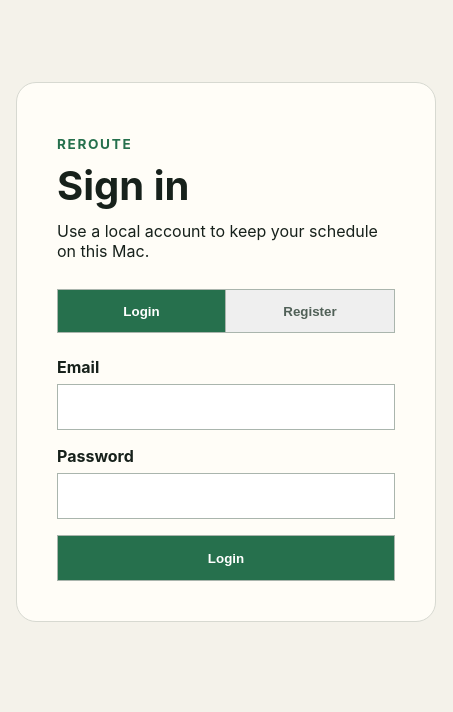
Test: shows when an email is already registered
Click the button with aria-label "Show registration form": (310, 311) [226,289,395,333]
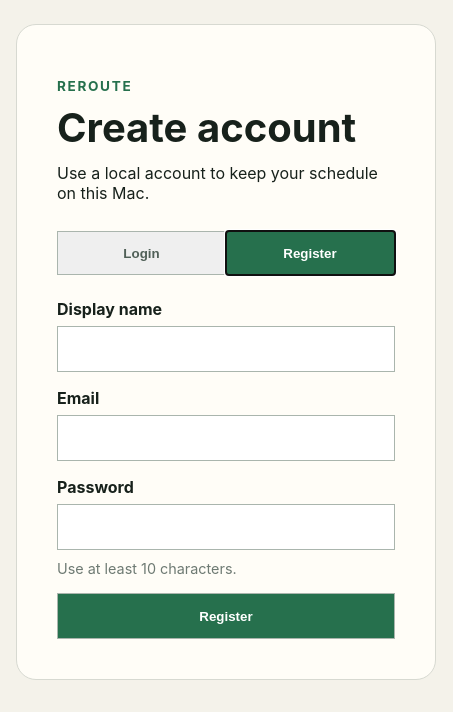
In the field labelled "Display name": (226, 349) [57,326,395,372], type "Adam"
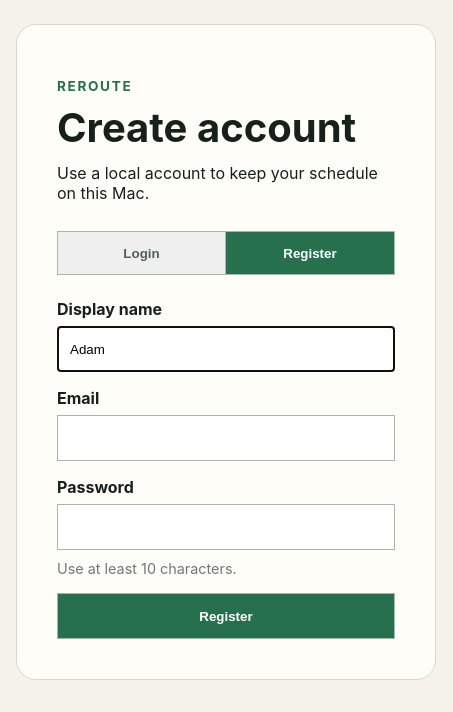
In the field labelled "Email": (226, 438) [57,415,395,461], type "adam@example.com"
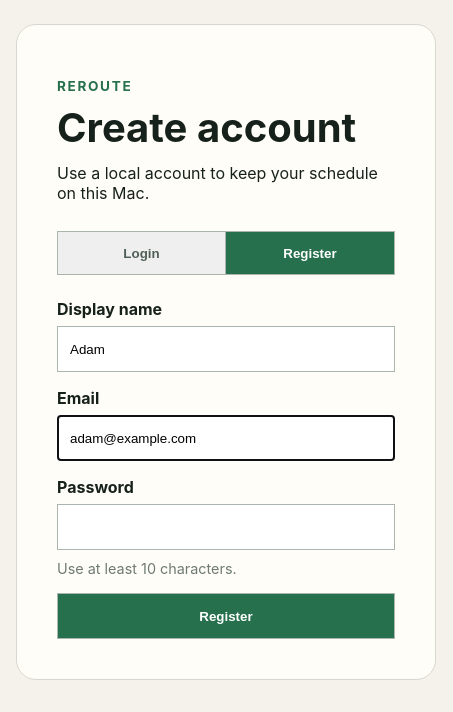
In the password field labelled "Password": (226, 527) [57,504,395,550], type "a useful password"
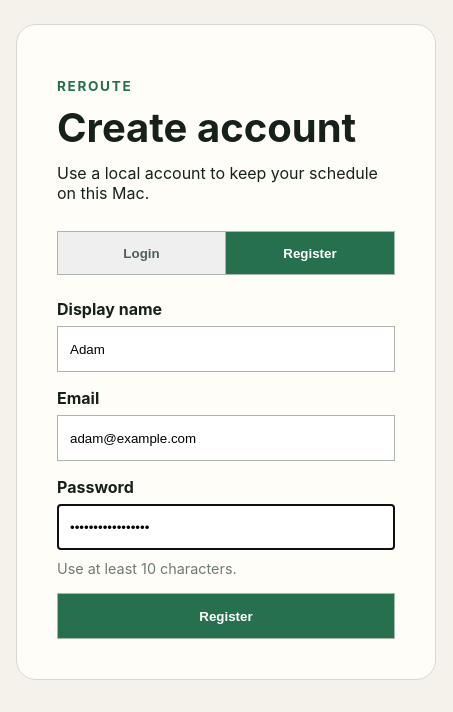
Click the button "Register" below "Use at least 10 characters.": (226, 616) [57,593,395,639]
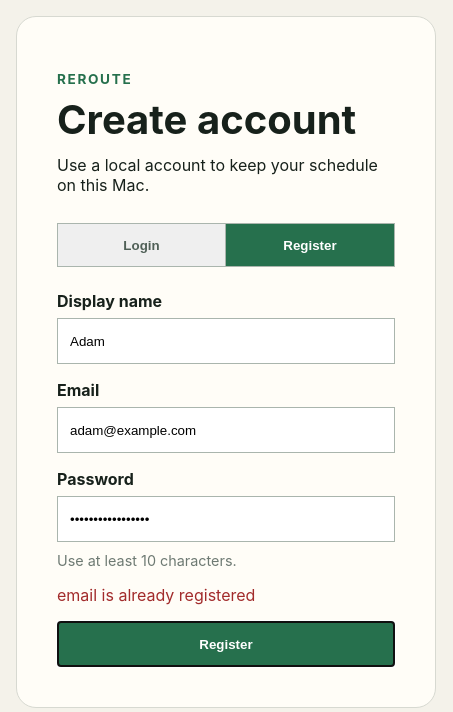
Expected: the message reads "email is already registered", [57,585,255,605]
